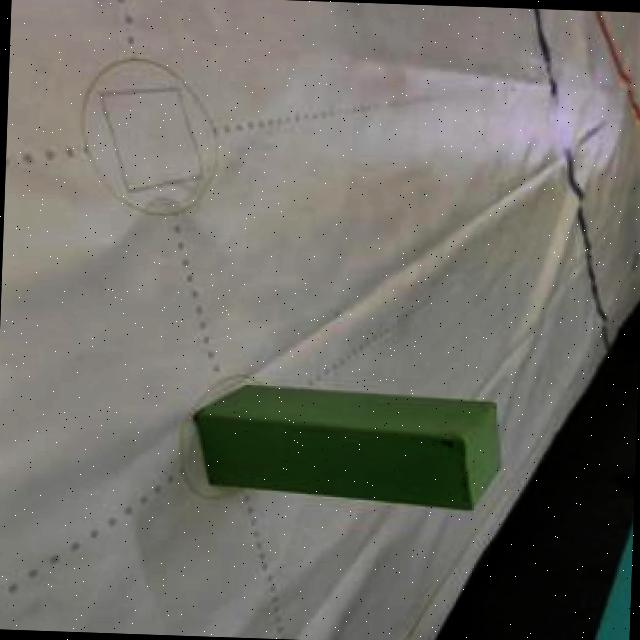greenbox: (185, 376, 508, 513)
